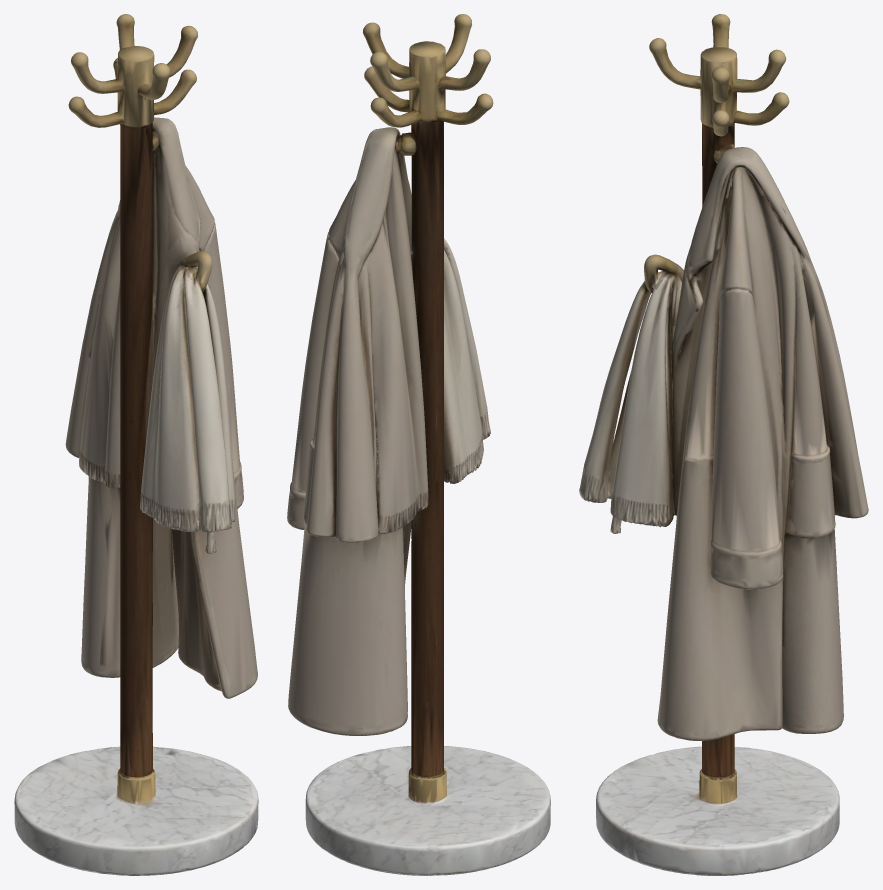
File: coat-rack.glb
3 views of the same model, side by side, from view 1: azimuth 30°, elevation 25°; view 2: azimuth 150°, elevation 25°; view 3: azimuth 270°, elevation 25° (orthographic).
Visible parts, largest first — view 1: node_0; view 2: node_0; view 3: node_0.
Boxes of the visible parts, bbox=[...] form: node_0: bbox=[14, 14, 258, 875]; node_0: bbox=[287, 14, 550, 875]; node_0: bbox=[579, 14, 868, 875].
Size of the model in its own units: 0.3445 by 1.15 by 0.3846.
1 material, 1 textured.
